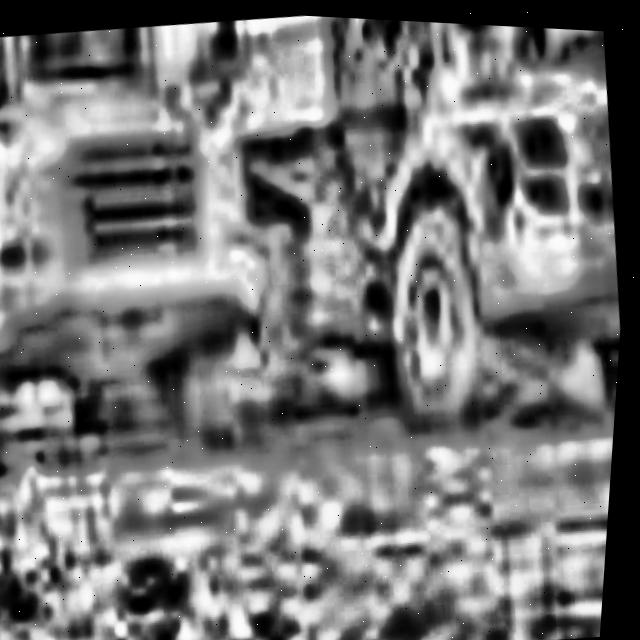dump_truck: (217, 10, 640, 528), (0, 5, 309, 492)
